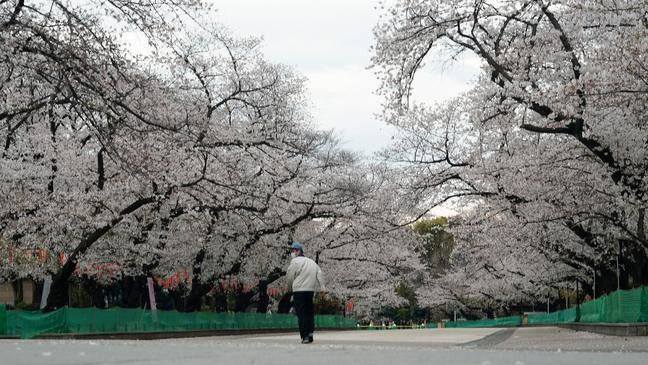Person: (285, 242, 325, 345)
